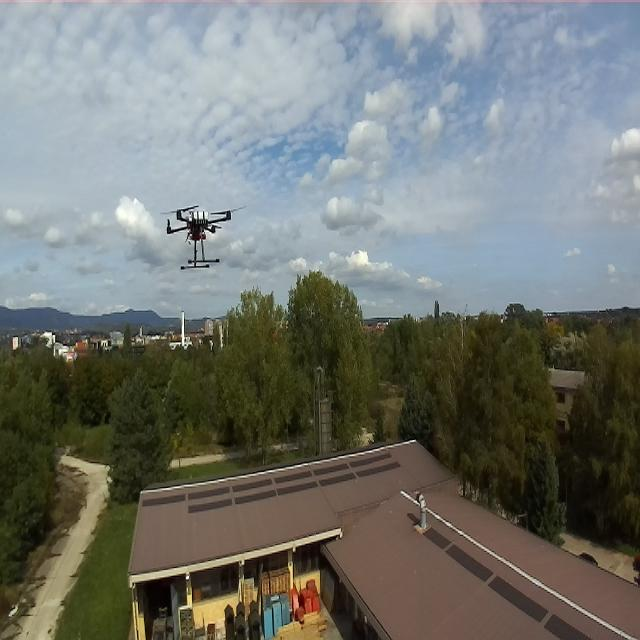UAV: (158, 193, 238, 271)
